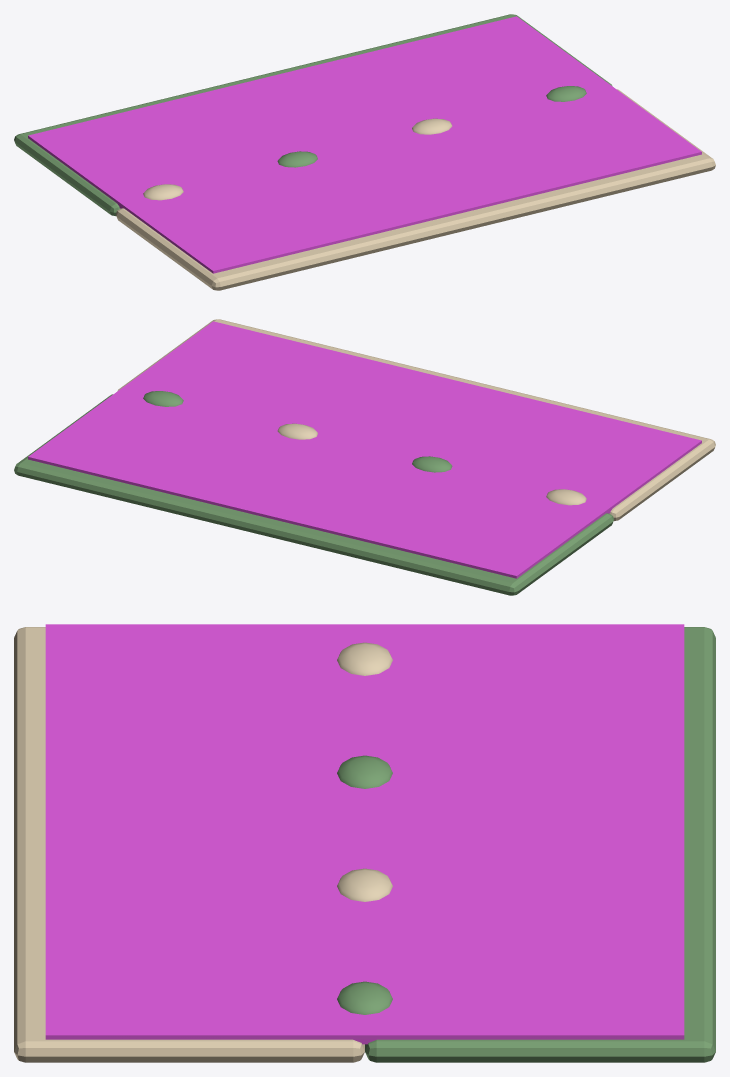
Rendered from transition_sand_grass_lod1_v1.glb.
3 views of the same model, one above another, from view 1: azimuth 30°, elevation 25°; view 2: azimuth 150°, elevation 25°; view 3: azimuth 270°, elevation 25° (orthographic). The views are drawn at different scales.
Parts seen in each view (by area): view 1: NAV_MASK_TRANSITION_SAND_GRASS, LOD1_TRANSITION_SAND_GRASS_A, LOD1_TRANSITION_SAND_GRASS_B, LOD1_TRANSITION_SAND_GRASS_Blend_02, LOD1_TRANSITION_SAND_GRASS_Blend_03, LOD1_TRANSITION_SAND_GRASS_Blend_01, LOD1_TRANSITION_SAND_GRASS_Blend_04; view 2: NAV_MASK_TRANSITION_SAND_GRASS, LOD1_TRANSITION_SAND_GRASS_B, LOD1_TRANSITION_SAND_GRASS_A, LOD1_TRANSITION_SAND_GRASS_Blend_02, LOD1_TRANSITION_SAND_GRASS_Blend_03, LOD1_TRANSITION_SAND_GRASS_Blend_01, LOD1_TRANSITION_SAND_GRASS_Blend_04; view 3: NAV_MASK_TRANSITION_SAND_GRASS, LOD1_TRANSITION_SAND_GRASS_A, LOD1_TRANSITION_SAND_GRASS_B, LOD1_TRANSITION_SAND_GRASS_Blend_04, LOD1_TRANSITION_SAND_GRASS_Blend_01, LOD1_TRANSITION_SAND_GRASS_Blend_02, LOD1_TRANSITION_SAND_GRASS_Blend_03.
Part boxes in pixels (x1,y1,x2,y2): NAV_MASK_TRANSITION_SAND_GRASS: (28, 16, 701, 273); LOD1_TRANSITION_SAND_GRASS_A: (116, 89, 715, 290); LOD1_TRANSITION_SAND_GRASS_B: (14, 14, 612, 216); LOD1_TRANSITION_SAND_GRASS_Blend_02: (277, 151, 317, 167); LOD1_TRANSITION_SAND_GRASS_Blend_03: (412, 118, 452, 134); LOD1_TRANSITION_SAND_GRASS_Blend_01: (143, 184, 183, 200); LOD1_TRANSITION_SAND_GRASS_Blend_04: (546, 86, 586, 101); NAV_MASK_TRANSITION_SAND_GRASS: (28, 321, 701, 578); LOD1_TRANSITION_SAND_GRASS_B: (14, 394, 613, 595); LOD1_TRANSITION_SAND_GRASS_A: (117, 319, 715, 521); LOD1_TRANSITION_SAND_GRASS_Blend_02: (412, 456, 452, 472); LOD1_TRANSITION_SAND_GRASS_Blend_03: (277, 423, 317, 439); LOD1_TRANSITION_SAND_GRASS_Blend_01: (546, 489, 586, 505); LOD1_TRANSITION_SAND_GRASS_Blend_04: (143, 391, 183, 406); NAV_MASK_TRANSITION_SAND_GRASS: (45, 624, 684, 1044); LOD1_TRANSITION_SAND_GRASS_A: (14, 627, 364, 1062); LOD1_TRANSITION_SAND_GRASS_B: (365, 627, 715, 1062); LOD1_TRANSITION_SAND_GRASS_Blend_04: (337, 981, 392, 1014); LOD1_TRANSITION_SAND_GRASS_Blend_01: (337, 642, 392, 675); LOD1_TRANSITION_SAND_GRASS_Blend_02: (337, 755, 392, 788); LOD1_TRANSITION_SAND_GRASS_Blend_03: (337, 868, 392, 901).
Size of what is drawn, in the model's own units: 6 by 0.23 by 4.2.
